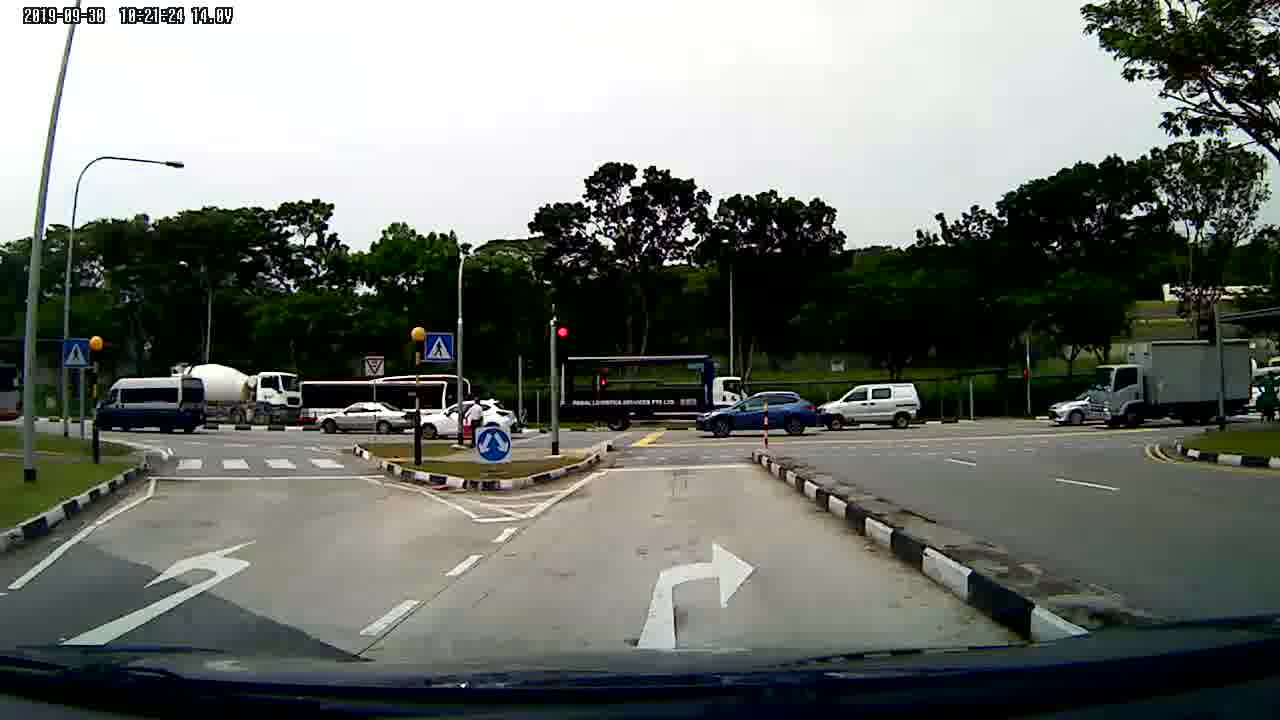bus: (298, 370, 472, 429)
car: (694, 390, 817, 447), (317, 401, 416, 435)
